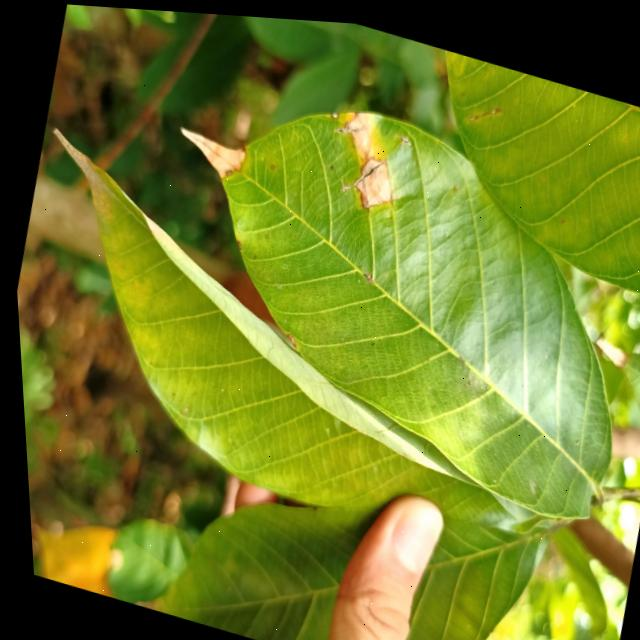Colletotrichum: (266, 159, 273, 166), (326, 160, 331, 166), (260, 230, 264, 235)
Leaf-Blight: (168, 124, 246, 181), (345, 146, 396, 209), (328, 99, 379, 157)
